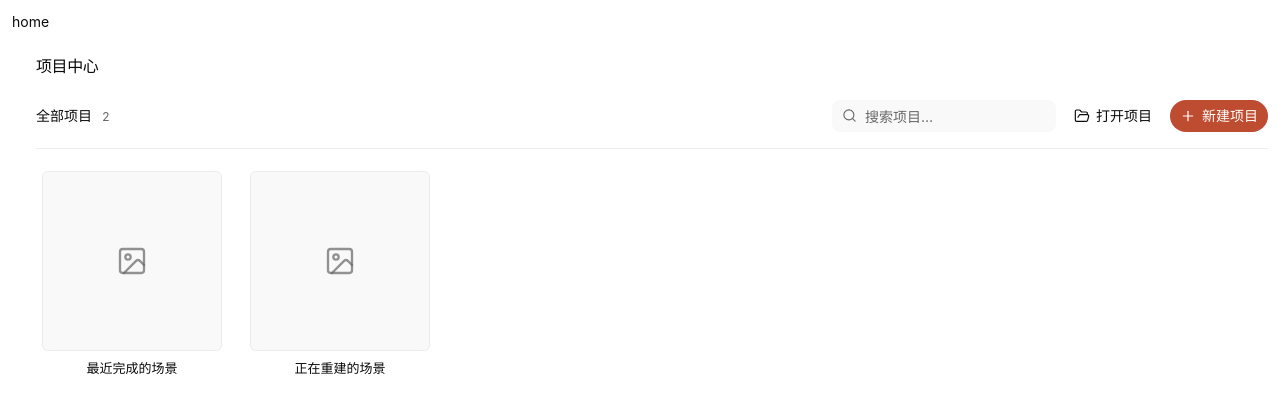
Scenario: HomePage › filters gallery projects by complete Windows path without displaying the file path
Type "C:\\projects" into the field named "搜索项目名称或路径".
click(944, 116); type("C:\\projects")  # box [832,100,1056,132]
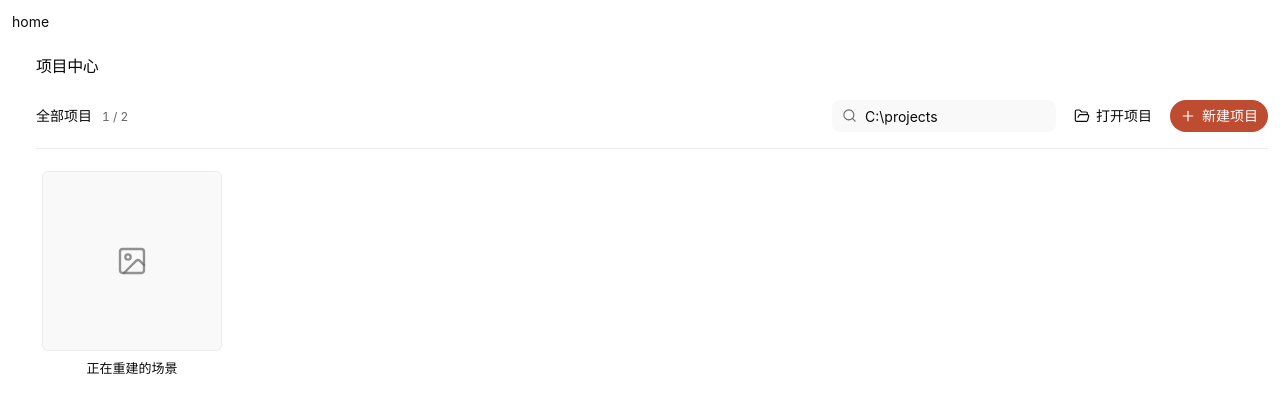
Expected: the button "最近完成的场景" is gone
Click the button "正在重建的场景".
click(132, 274)  # box [42,171,222,378]
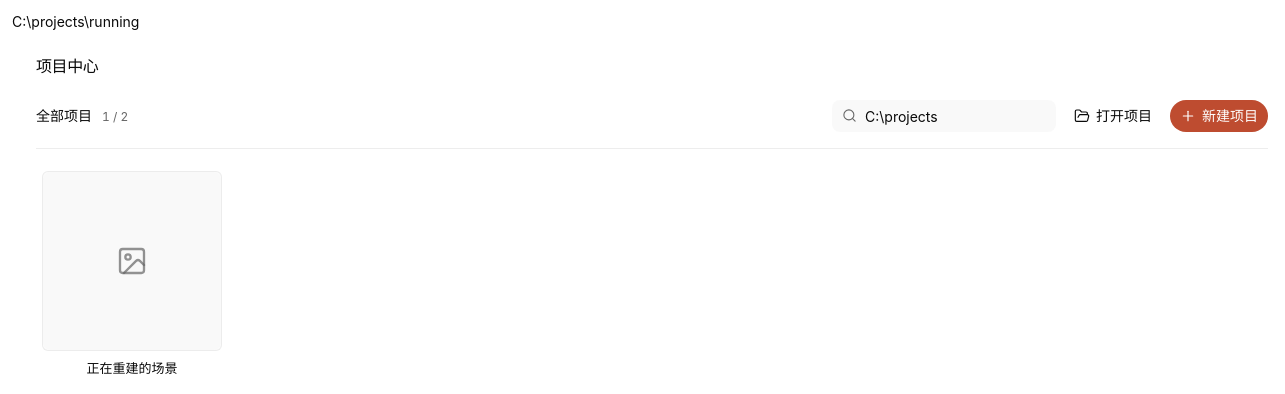
Expected: the text with test id "destination" reads "C:\\projects\\running", [12,13,140,30]
